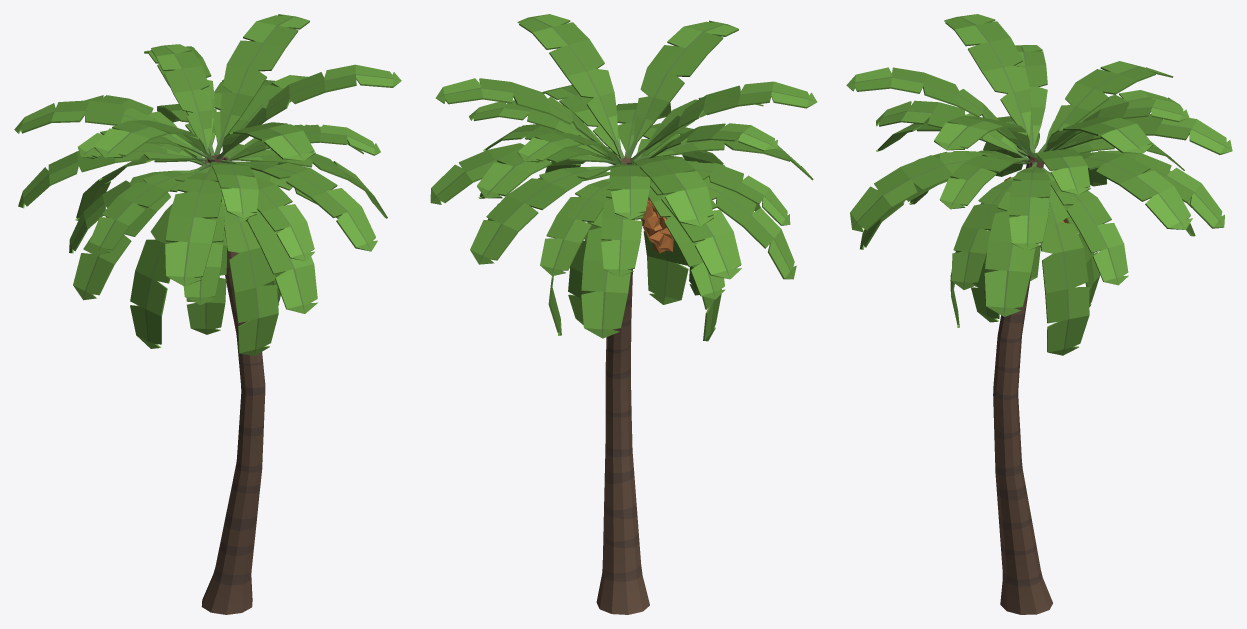
File: tree11.glb
3 renders of one model, left to right at view 1: azimuth 30°, elevation 25°; view 2: azimuth 150°, elevation 25°; view 3: azimuth 270°, elevation 25°, orthographic.
Visible parts, largest first — view 1: tree_0072; view 2: tree_0072; view 3: tree_0072.
Boxes of the visible parts, box(x1,y1,x2,y2) form: tree_0072: box(14, 14, 401, 614); tree_0072: box(430, 14, 817, 614); tree_0072: box(846, 14, 1232, 614).
Bounding box in the file's own units: 1.6 × 2.61 × 1.74.
